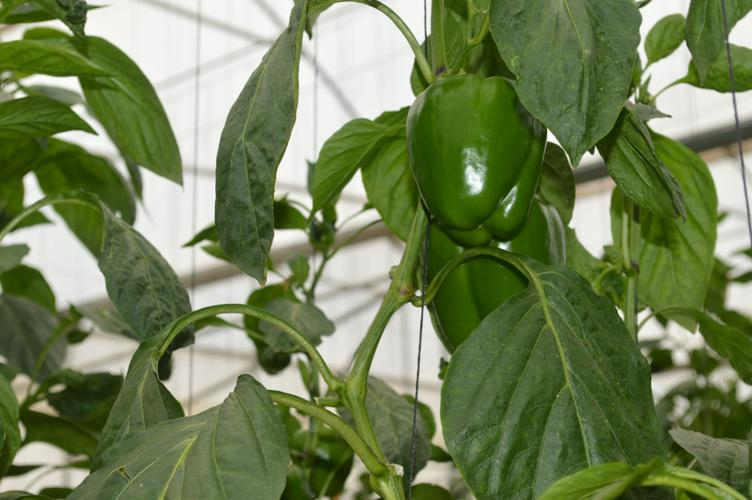BellPepper: (405, 66, 548, 253), (410, 210, 572, 338)
